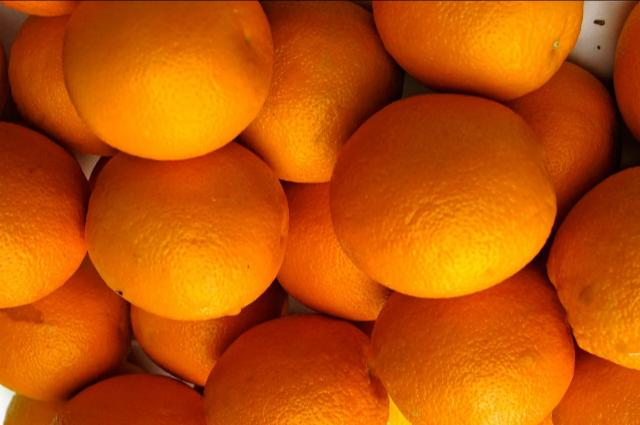Oranges: (329, 94, 556, 298), (85, 145, 289, 319), (68, 0, 272, 159), (372, 273, 572, 423), (374, 0, 584, 98), (204, 318, 390, 424), (0, 121, 86, 309)
